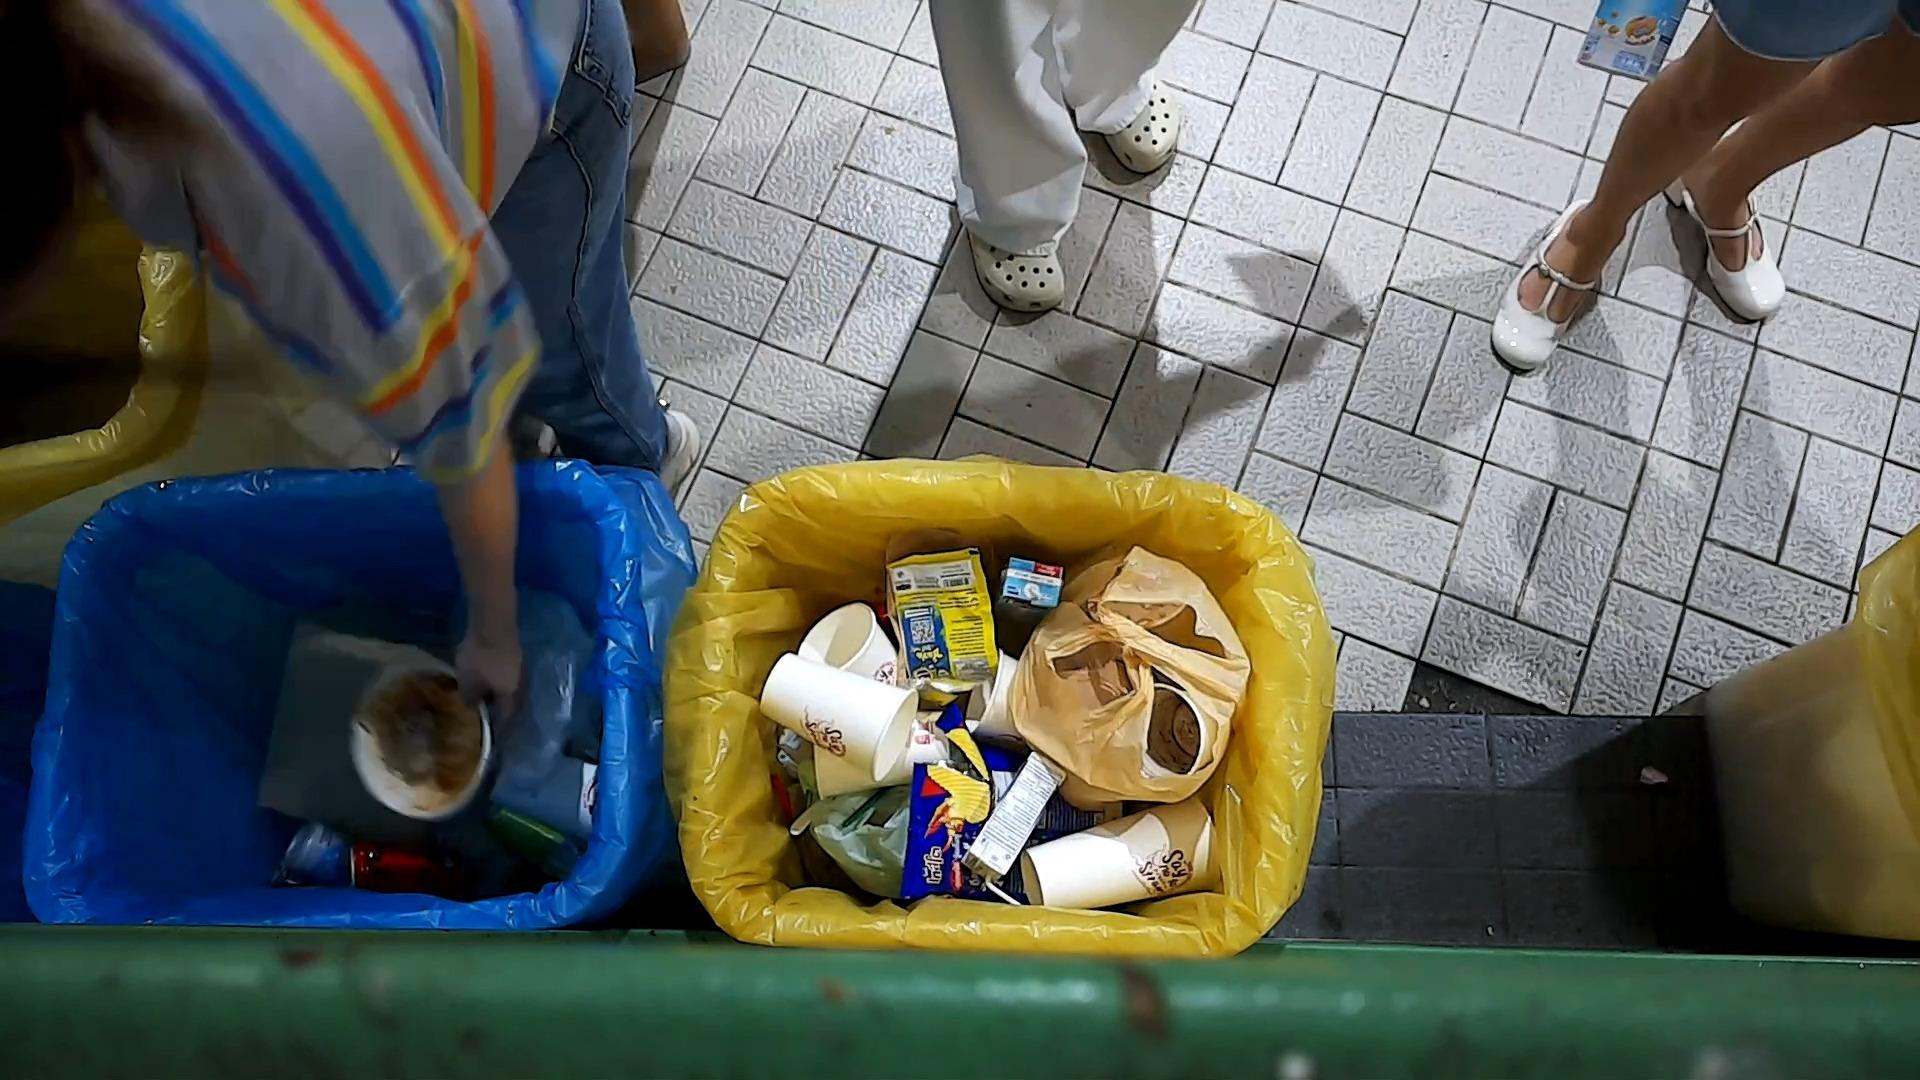can: (480, 804, 588, 884), (344, 837, 471, 899), (276, 816, 363, 889)
dirty food container: (345, 650, 502, 831)
filled plastic bag: (1006, 541, 1255, 816)
milk carton: (956, 750, 1072, 910), (1571, 0, 1695, 88), (988, 553, 1067, 630)
plastic bag: (492, 583, 599, 787)
snack packaging: (885, 550, 1002, 699)
zero waste cup: (1015, 795, 1226, 914), (754, 646, 919, 790), (481, 741, 603, 845)
